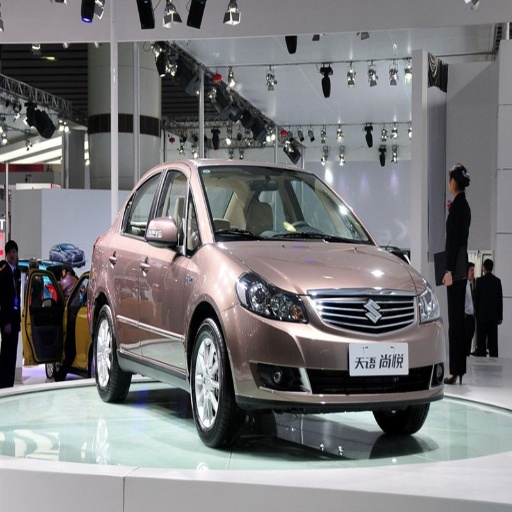front_bumper: (224, 292, 444, 440)
front_right_door: (141, 167, 199, 366)
front_right_light: (235, 273, 308, 321)
